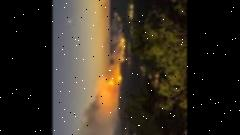fire: (109, 12, 127, 96)
